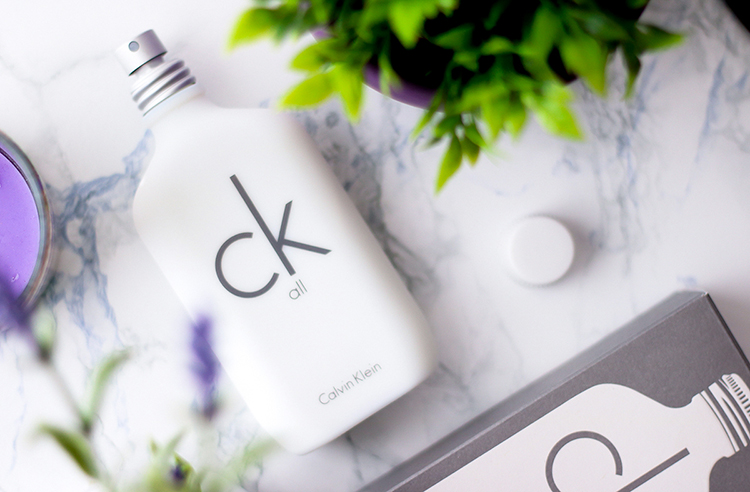Calvin Klein: (209, 172, 335, 305), (312, 358, 389, 407)
